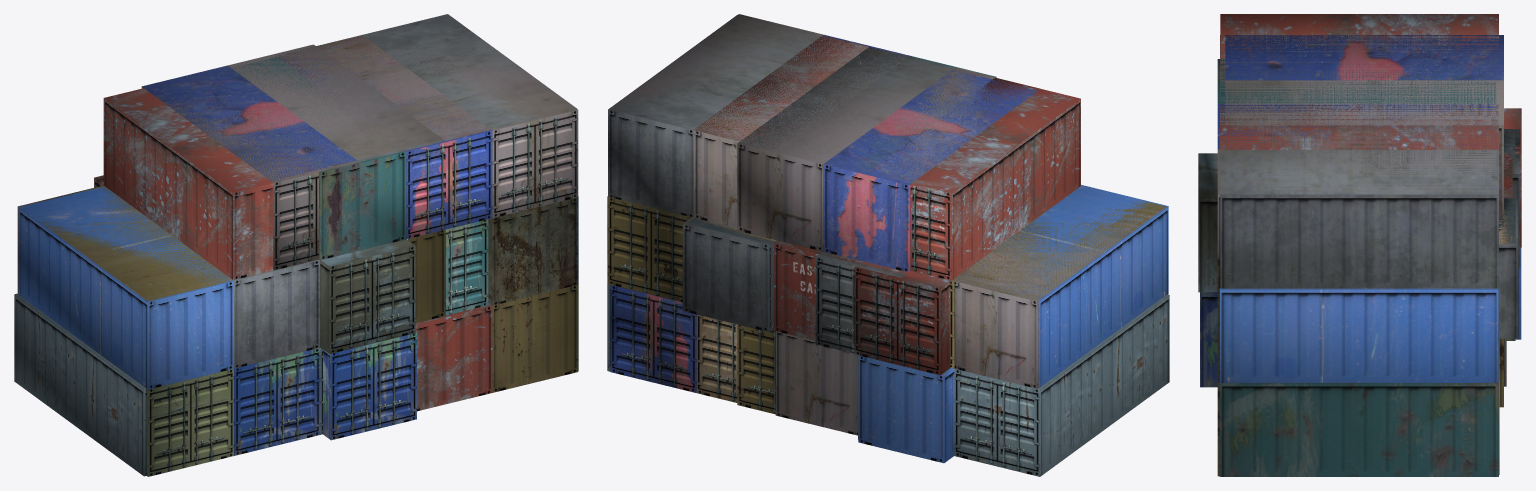
The model's file is bg_container_bundles.fbx.
The picture shows the model from 3 angles, left to right: view 1: azimuth 30°, elevation 25°; view 2: azimuth 150°, elevation 25°; view 3: azimuth 270°, elevation 25°; orthographic projection. The views are drawn at different scales.
Visible parts, largest first — view 1: Mesh_ncl1_5, Mesh_ncl1_3, Mesh, Mesh_ncl1_6, Mesh_ncl1_2, Mesh_ncl1_4, Mesh_ncl1_1; view 2: Mesh_ncl1_3, Mesh, Mesh_ncl1_6, Mesh_ncl1_5, Mesh_ncl1_4, Mesh_ncl1_2, Mesh_ncl1_1; view 3: Mesh_ncl1_4, Mesh_ncl1_3, Mesh, Mesh_ncl1_5, Mesh_ncl1_1, Mesh_ncl1_2, Mesh_ncl1_6.
Part boxes in pixels (left/top/right/bottom): Mesh_ncl1_5: left=18, top=19, right=578, bottom=476; Mesh_ncl1_3: left=17, top=14, right=576, bottom=353; Mesh: left=141, top=44, right=442, bottom=180; Mesh_ncl1_6: left=14, top=219, right=490, bottom=476; Mesh_ncl1_2: left=157, top=47, right=445, bottom=322; Mesh_ncl1_4: left=39, top=36, right=578, bottom=370; Mesh_ncl1_1: left=323, top=239, right=416, bottom=440; Mesh_ncl1_3: left=608, top=15, right=1166, bottom=439; Mesh: left=737, top=49, right=1038, bottom=414; Mesh_ncl1_6: left=610, top=281, right=1169, bottom=476; Mesh_ncl1_5: left=610, top=14, right=1168, bottom=387; Mesh_ncl1_4: left=607, top=35, right=1165, bottom=435; Mesh_ncl1_2: left=740, top=47, right=1039, bottom=275; Mesh_ncl1_1: left=682, top=217, right=769, bottom=331; Mesh_ncl1_4: left=1219, top=104, right=1521, bottom=476; Mesh_ncl1_3: left=1198, top=14, right=1515, bottom=476; Mesh: left=1225, top=35, right=1520, bottom=407; Mesh_ncl1_5: left=1217, top=59, right=1512, bottom=476; Mesh_ncl1_1: left=1200, top=199, right=1518, bottom=387; Mesh_ncl1_2: left=1220, top=35, right=1515, bottom=174; Mesh_ncl1_6: left=1499, top=247, right=1521, bottom=474.
Bounding box in the file's own units: 1082 × 625 × 649.
